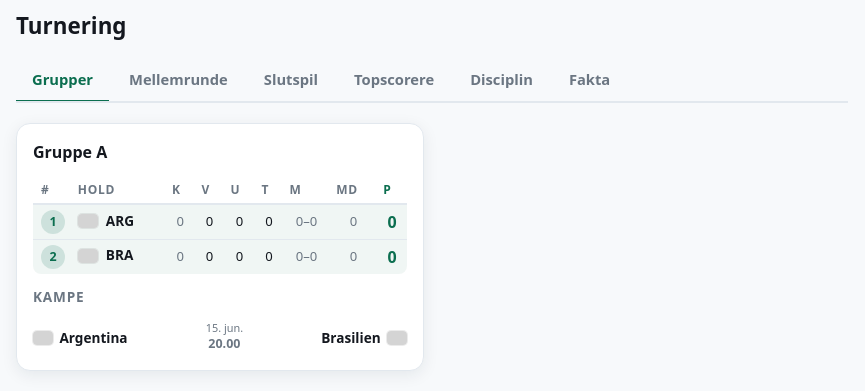
Test: TournamentPage – Slutspil-fane › viser tom-tilstand når ingen slutspilskampe
Click the tab "Slutspil": (291, 81) [248,59,334,103]
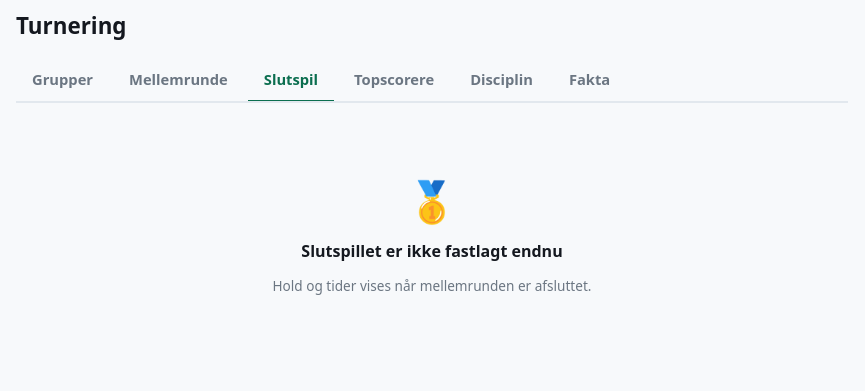
Now the text "Slutspillet er ikke fastlagt endnu" is shown, box [301,240,563,262]
